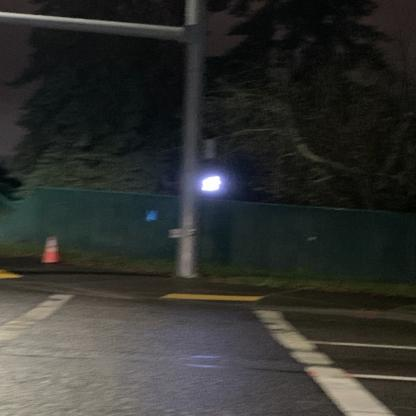Walk: (202, 174, 223, 191)
